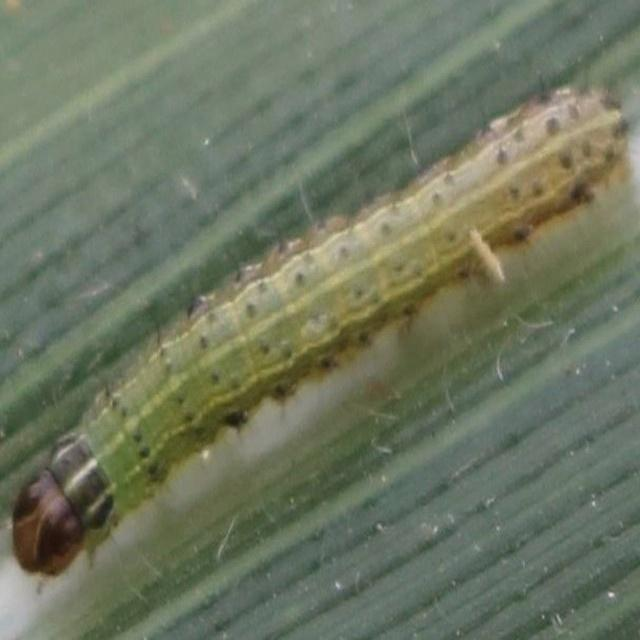gusano_cogollero: (1, 74, 628, 596)
